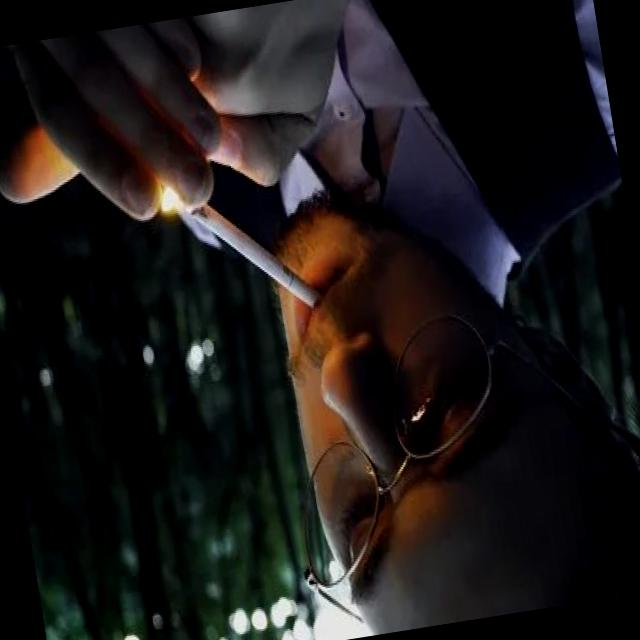cigarette: (186, 181, 323, 330)
